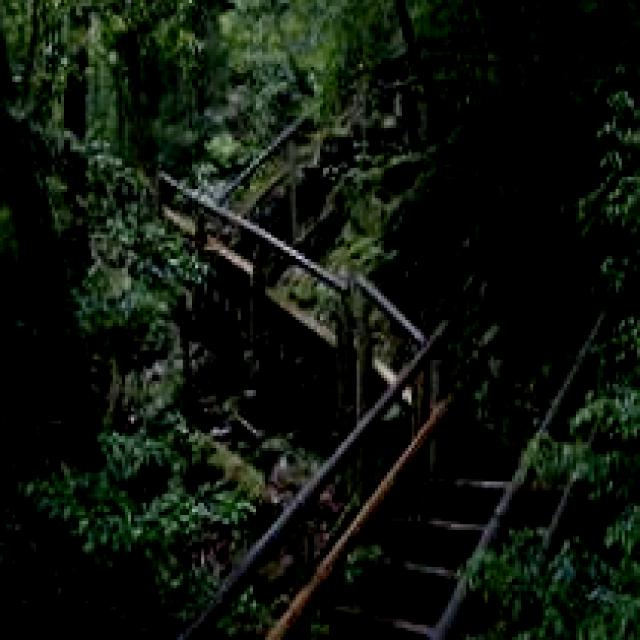upstair: (294, 406, 522, 640)
